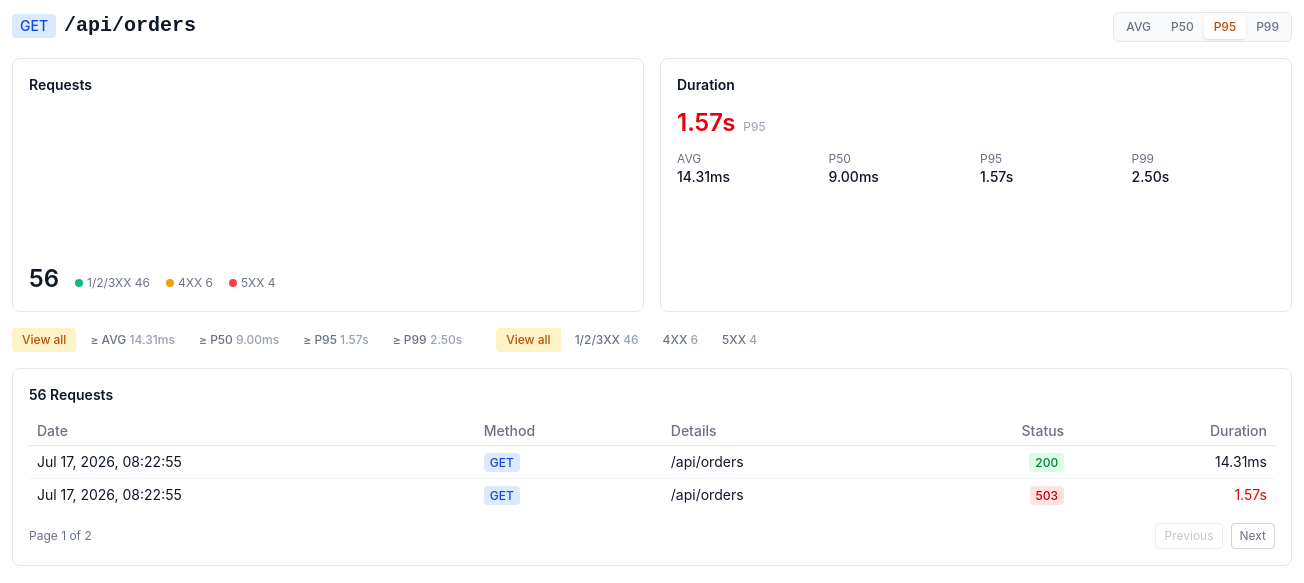
Test case: AggregateDetailPage › defaults the duration headline to P95 and switches it via the percentile toggle
The image size is (1304, 583).
Click the button "P99" at [1268, 27], box [1246,15,1289,39]
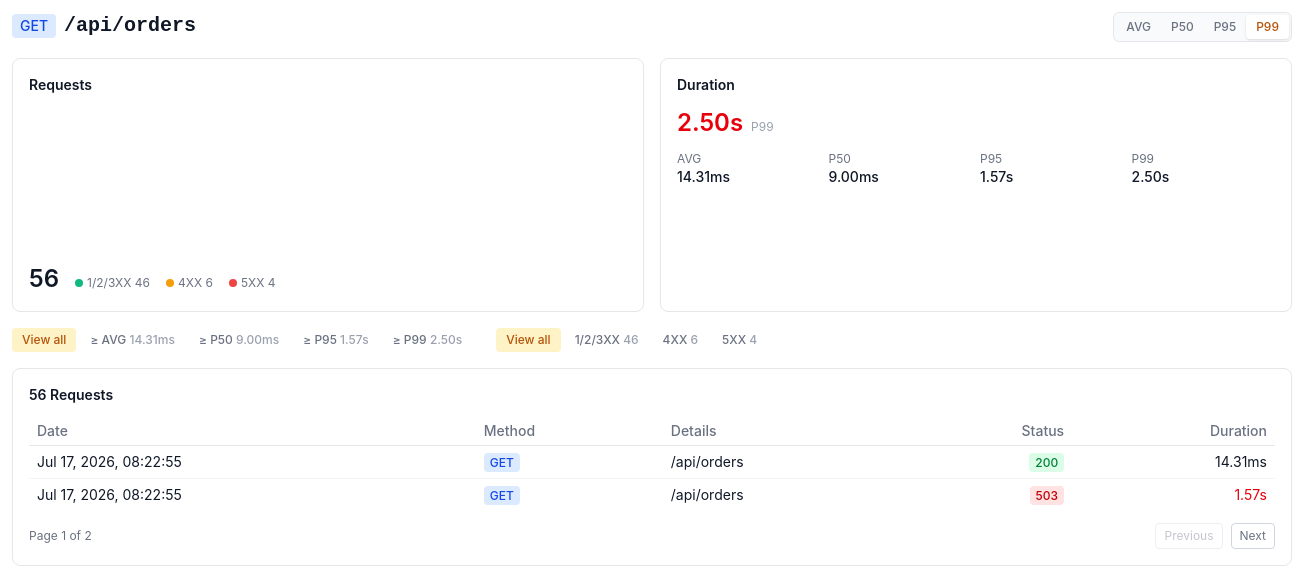
Expected: the text with test id "duration-headline" reads "2.50s", [677,108,743,137]
